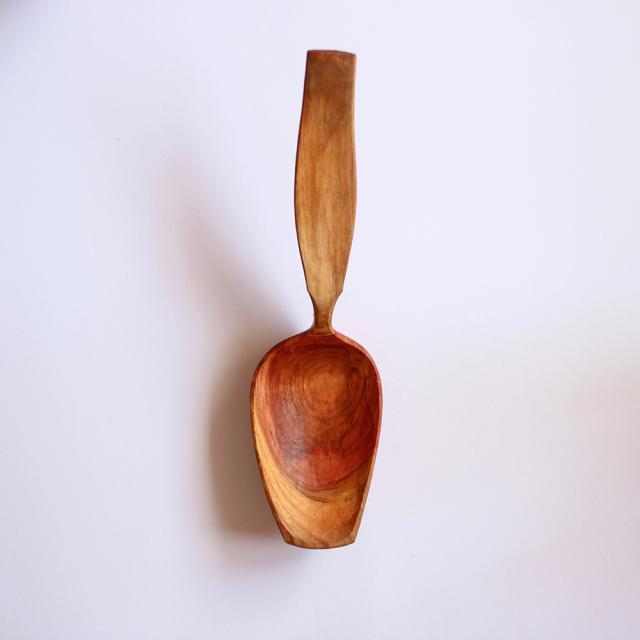spoon: (236, 31, 398, 558)
